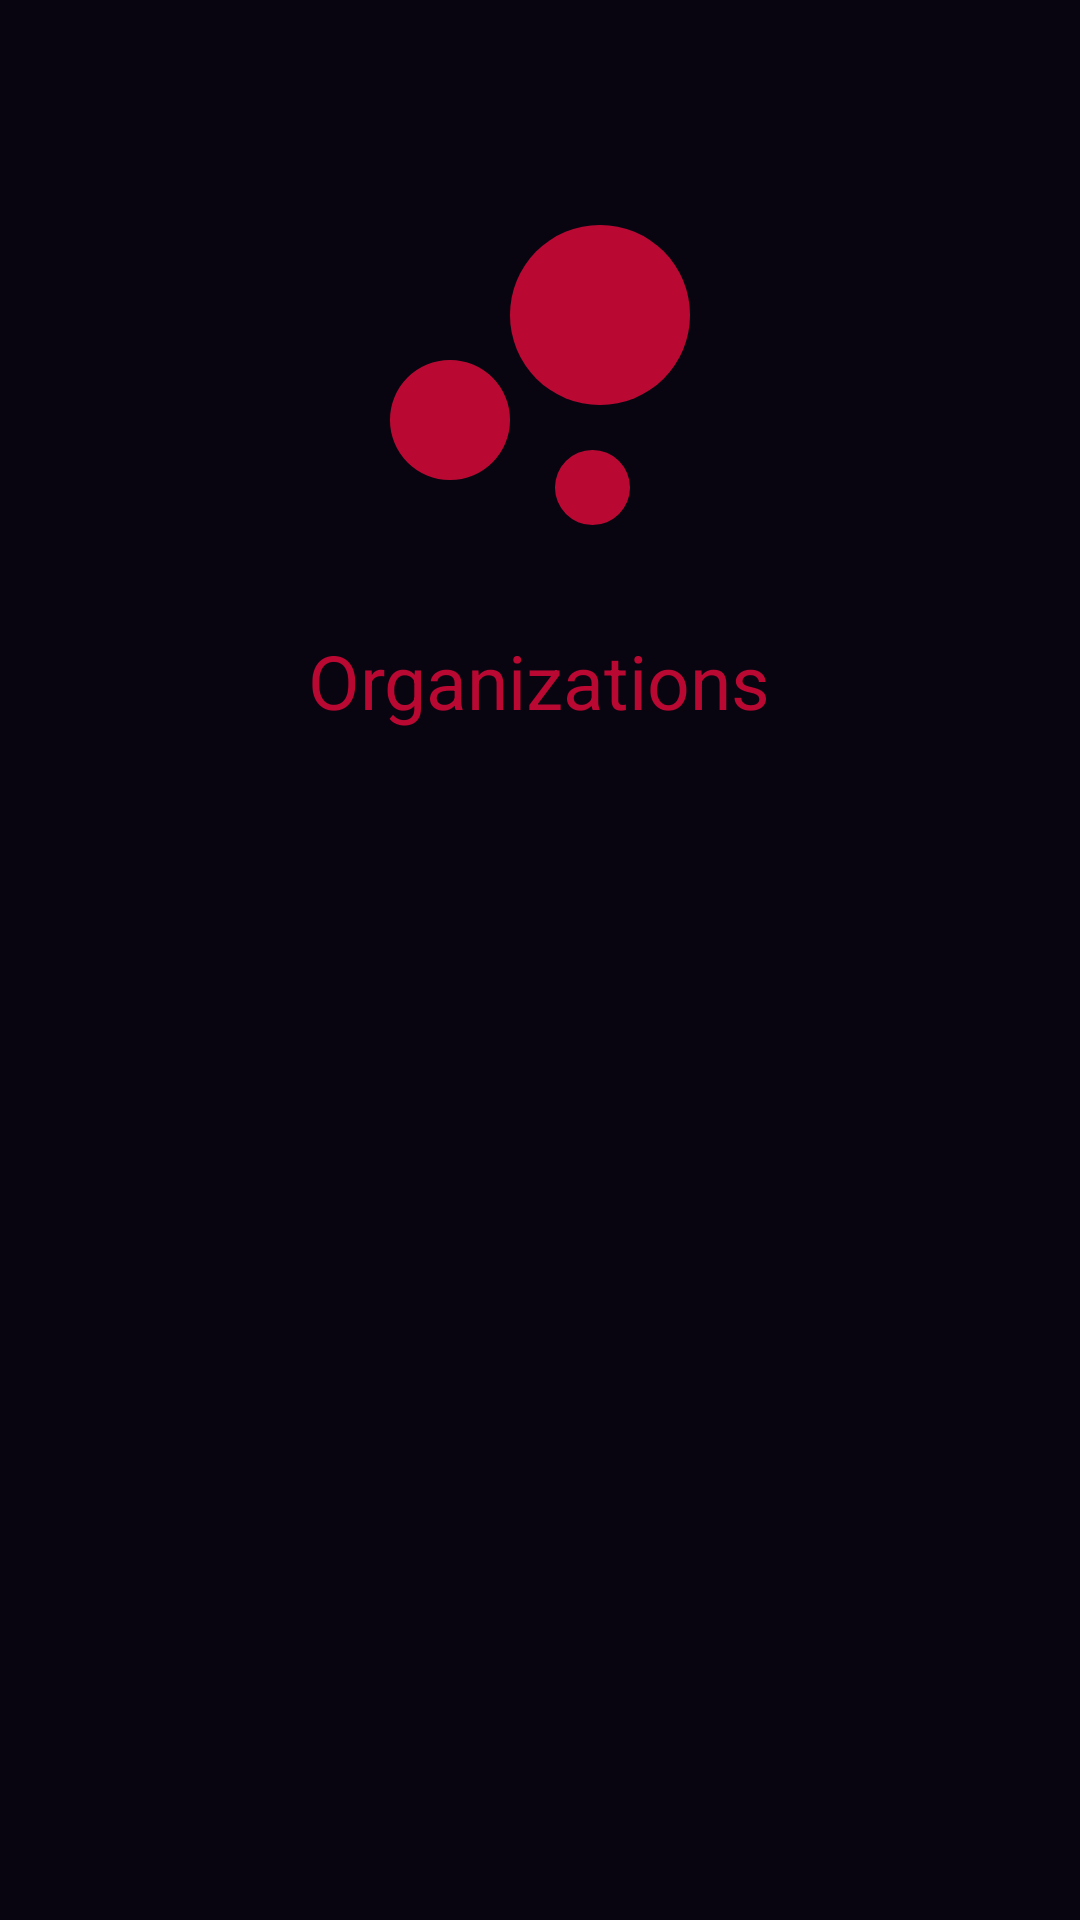

Icons on this 1080 x 1920 Android screen, each with its box as [x1=x1, y1=y1, x2=x2, y2=y2]:
bubble chart: [x1=390, y1=225, x2=690, y2=525]
